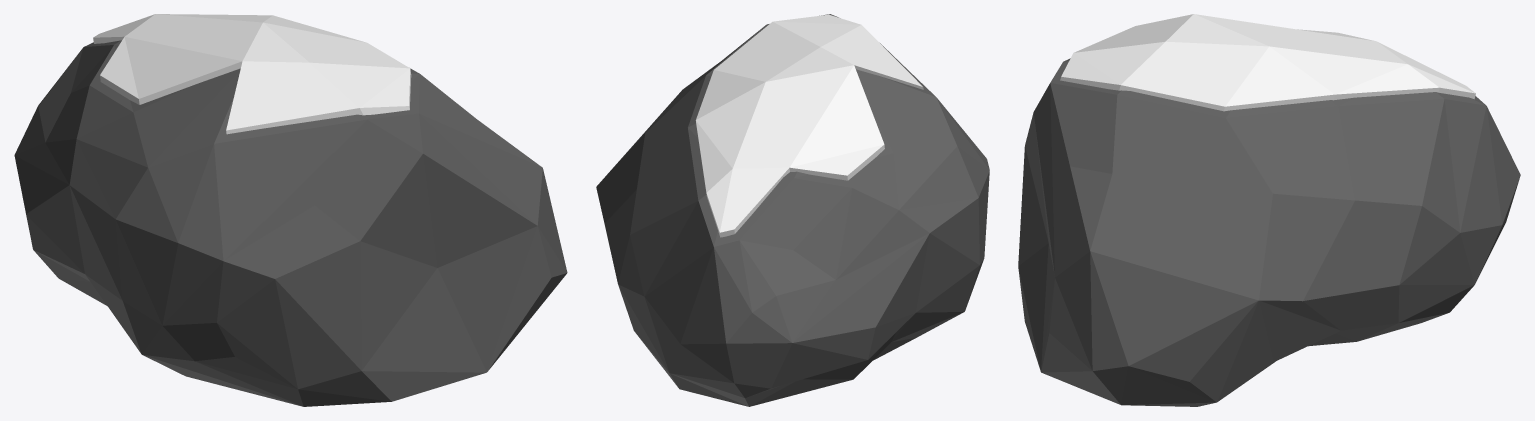
File: stone.glb
The picture shows the model from 3 angles, left to right: view 1: azimuth 30°, elevation 25°; view 2: azimuth 150°, elevation 25°; view 3: azimuth 270°, elevation 25°; orthographic projection. The views are drawn at different scales.
Visible parts, largest first — view 1: Stone.004; view 2: Stone.004; view 3: Stone.004.
Part boxes in pixels (x1,y1,x2,y2): Stone.004: (14,14,567,406); Stone.004: (596,14,989,406); Stone.004: (1018,14,1520,406).
Bounding box in the file's own units: 1.8 × 1.22 × 1.97.
1 material, 1 textured.
